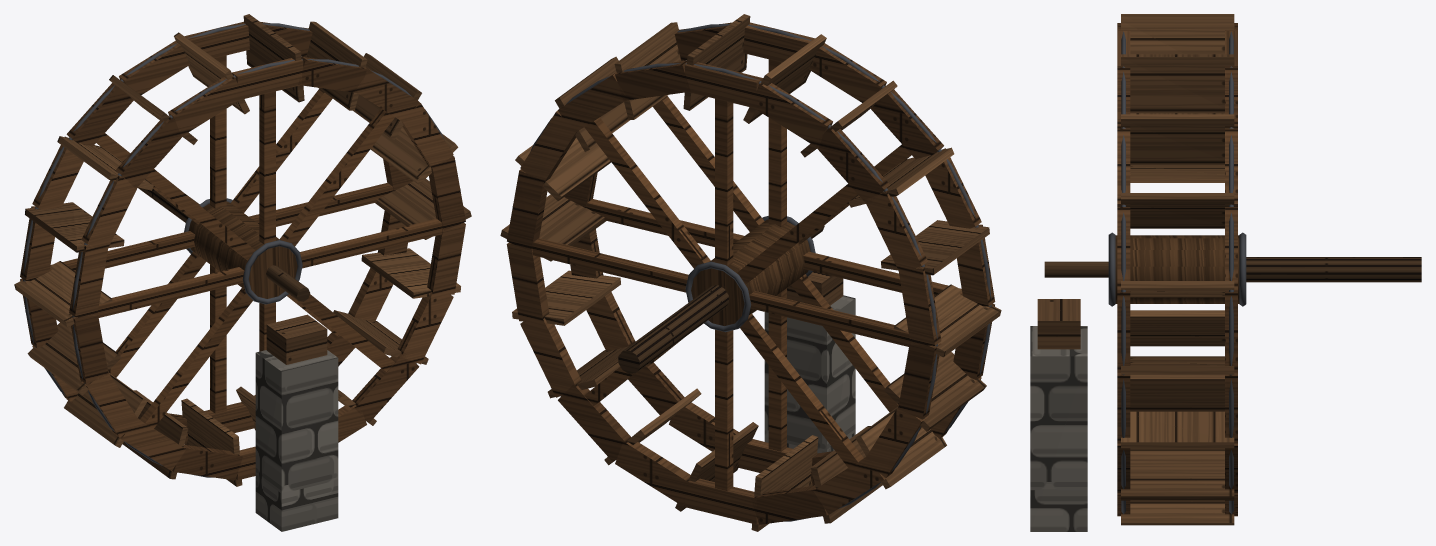
File: wasserrad.glb
3 views of the same model, side by side, from view 1: azimuth 30°, elevation 25°; view 2: azimuth 150°, elevation 25°; view 3: azimuth 270°, elevation 25° (orthographic). The views are drawn at different scales.
Visible parts, largest first — view 1: rad, modell; view 2: rad, modell; view 3: rad, modell.
Boxes of the visible parts, x1=… form: rad: x1=14, y1=14, x2=471, y2=486; modell: x1=255, y1=265, x2=338, y2=531; rad: x1=500, y1=14, x2=1001, y2=531; modell: x1=764, y1=225, x2=855, y2=453; rad: x1=1108, y1=14, x2=1421, y2=525; modell: x1=1030, y1=261, x2=1108, y2=531.
Bounding box in the file's own units: 3.58 × 3.67 × 2.73.
Materials: 4 (3 with a texture image).
